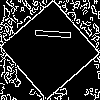I: (25, 25, 72, 42)
